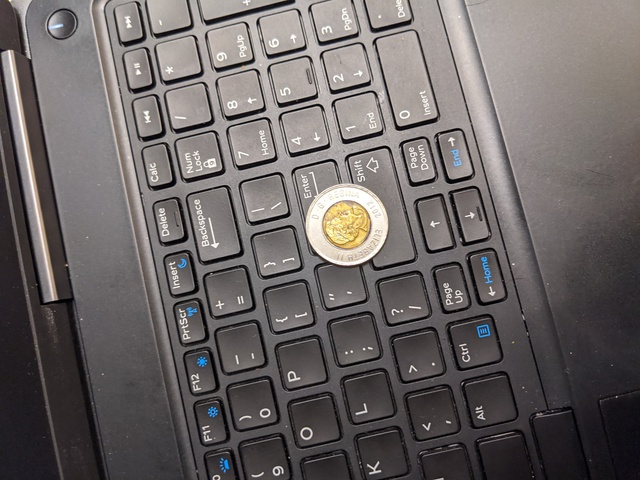twonie: (300, 179, 396, 271)
